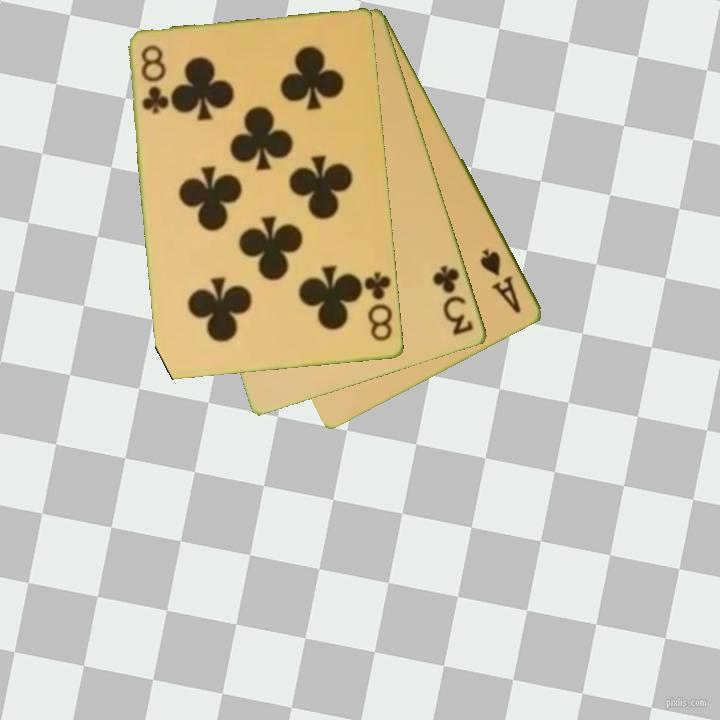3c: (429, 262, 477, 339)
8c: (361, 268, 396, 345), (138, 41, 171, 117)
As: (477, 246, 525, 317)
